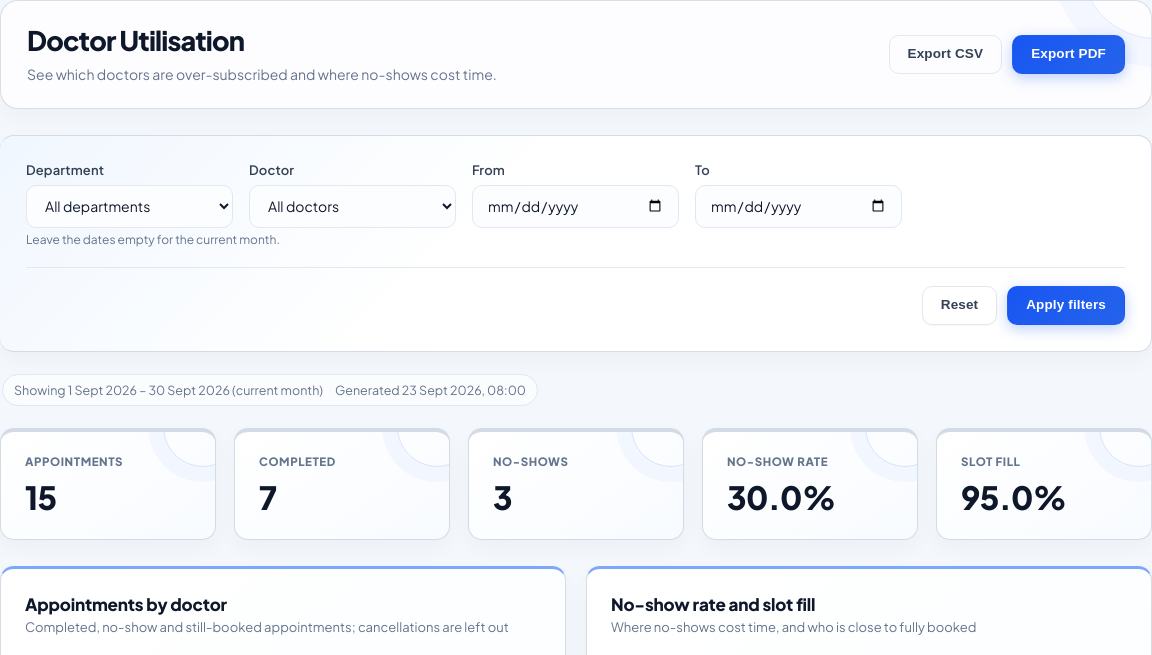
it: UtilisationReportPage (SCRUM-38) › refuses an end date before the start date without asking the service
Expected: the text "Showing 1 Sept 2026 – 30 Sept 2026 (current month)" is shown, [14,382,323,398]
Type "2026-09-10" into the date field labelled "From" at (576,206), box [472,185,679,228]
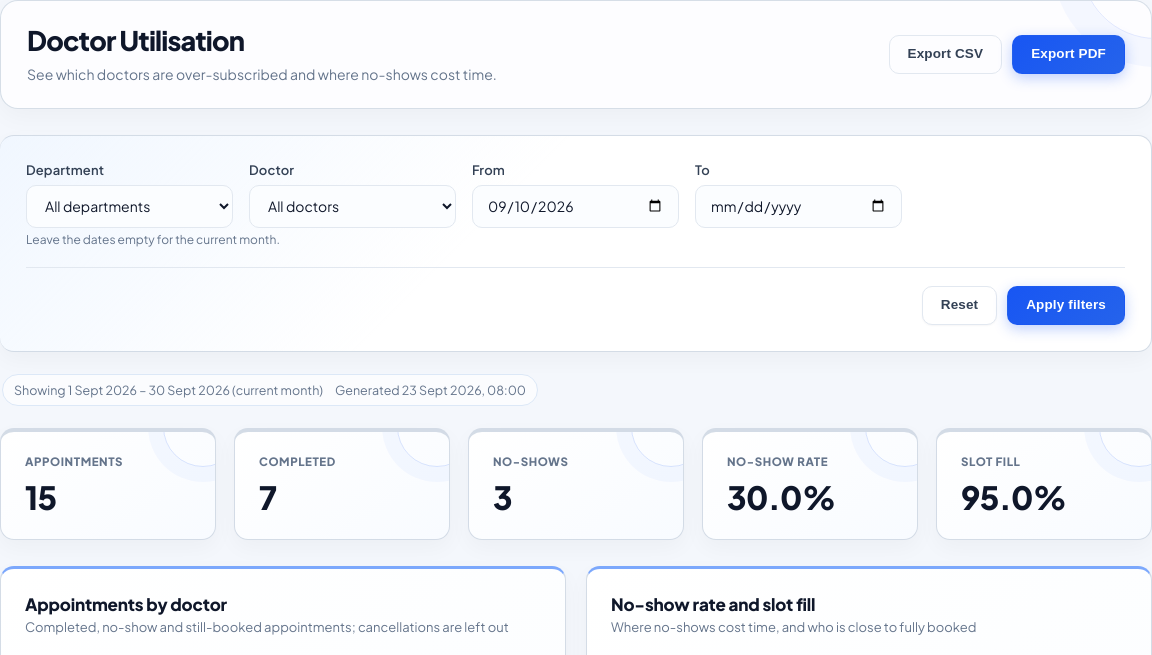
Type "2026-09-01" into the date field labelled "To" at (798,206), box [695,185,902,228]
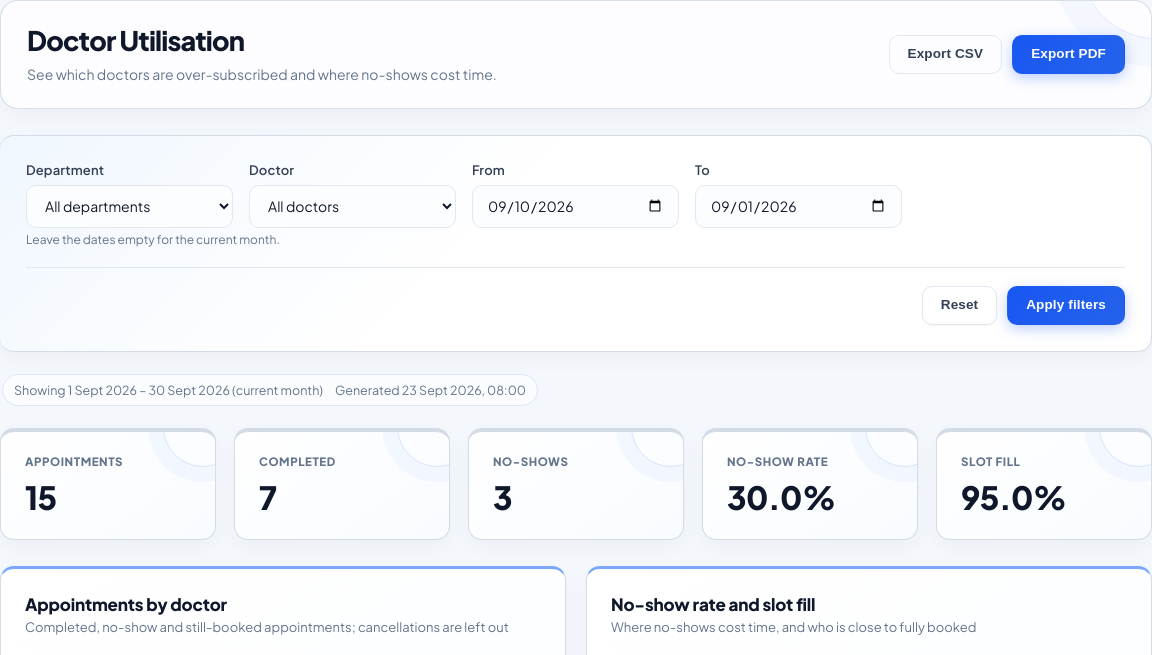
Click the button "Apply filters" at (1066,305), box [1007,286,1125,325]
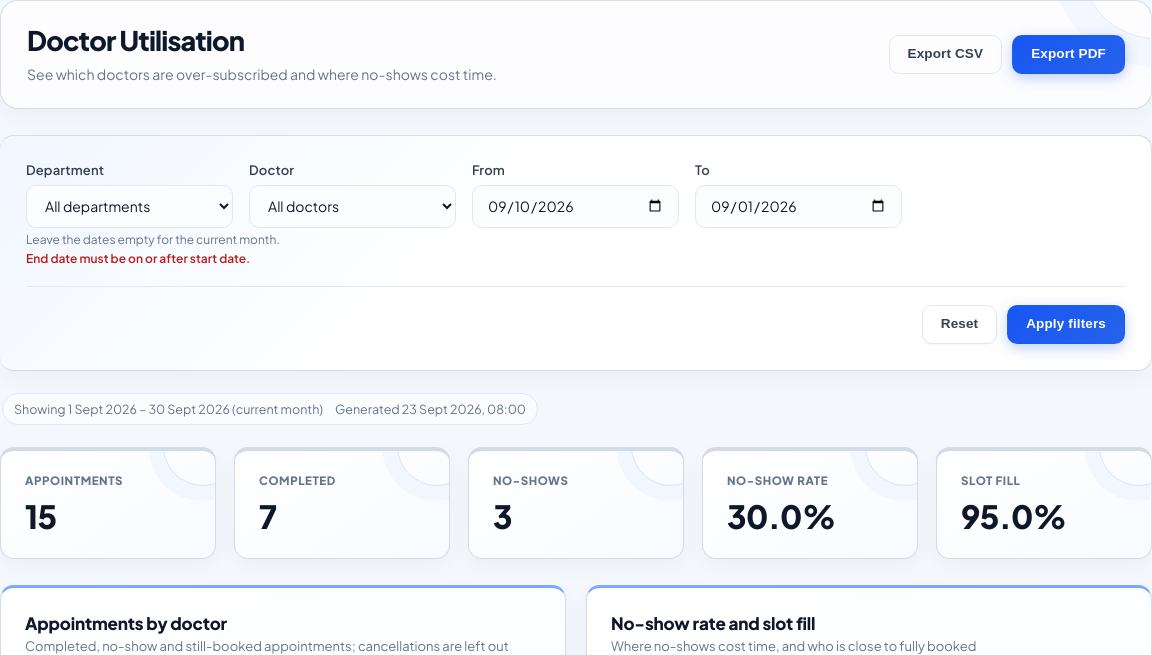
Expected: the message reads "End date must be on or after start date.", [26,251,250,266]
